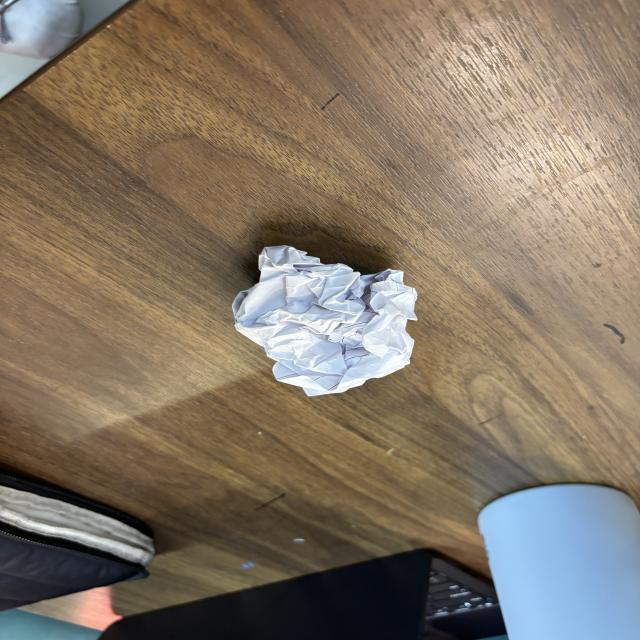crumpled_paper: (223, 234, 427, 404)
